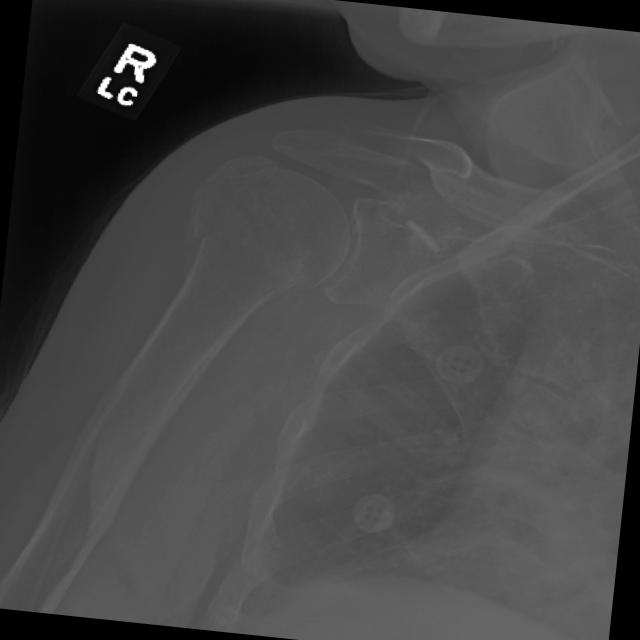shoulder fracture: (147, 183, 262, 283)
